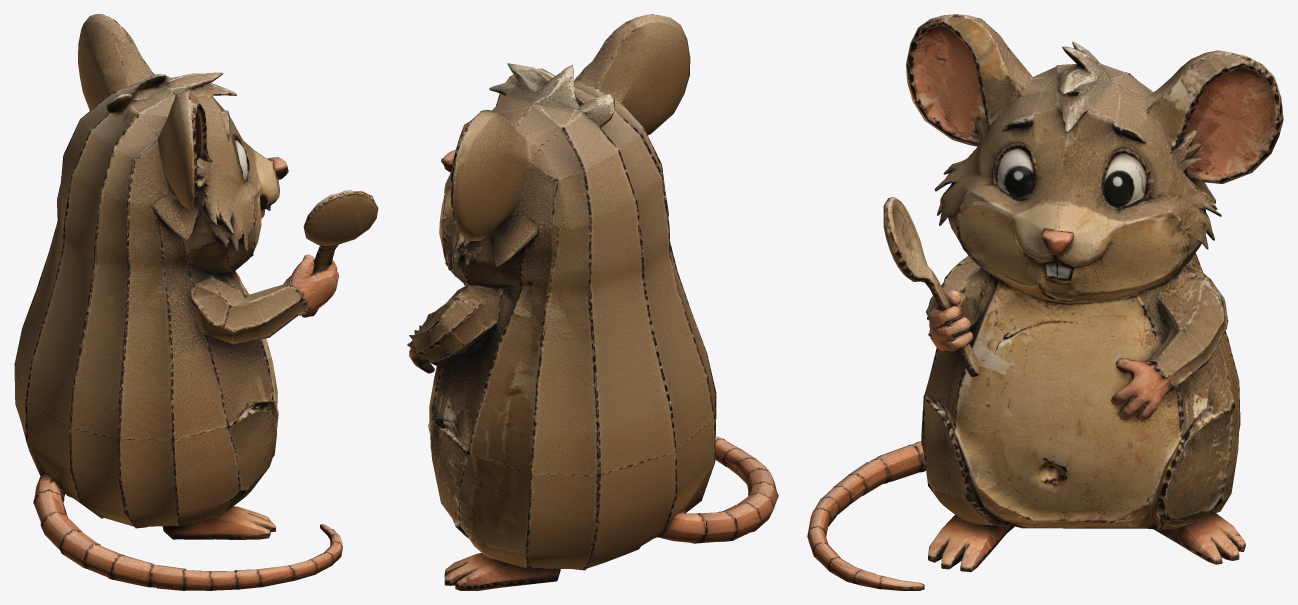
3 views of the same model, side by side, from view 1: azimuth 30°, elevation 25°; view 2: azimuth 150°, elevation 25°; view 3: azimuth 270°, elevation 25° (orthographic). The views are drawn at different scales.
Parts seen in each view (by area): view 1: tripo_node_ed2e2dd3-ec39-4c35-8ec7-fed709654a79; view 2: tripo_node_ed2e2dd3-ec39-4c35-8ec7-fed709654a79; view 3: tripo_node_ed2e2dd3-ec39-4c35-8ec7-fed709654a79.
Part boxes in pixels (box(x1,y1,x2,y2)): tripo_node_ed2e2dd3-ec39-4c35-8ec7-fed709654a79: box(14, 14, 378, 590); tripo_node_ed2e2dd3-ec39-4c35-8ec7-fed709654a79: box(407, 14, 778, 590); tripo_node_ed2e2dd3-ec39-4c35-8ec7-fed709654a79: box(807, 14, 1283, 590).
Bounding box in the file's own units: 0.6347 × 0.9779 × 0.8245.
Materials: 1 (1 with a texture image).
